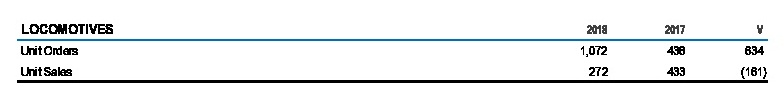table: (0, 0, 784, 104)
